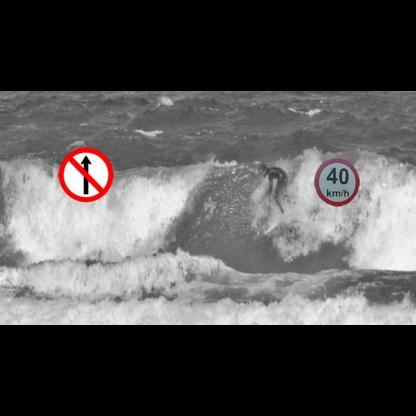R-19: (314, 158, 360, 206)
R-3: (58, 147, 114, 202)
